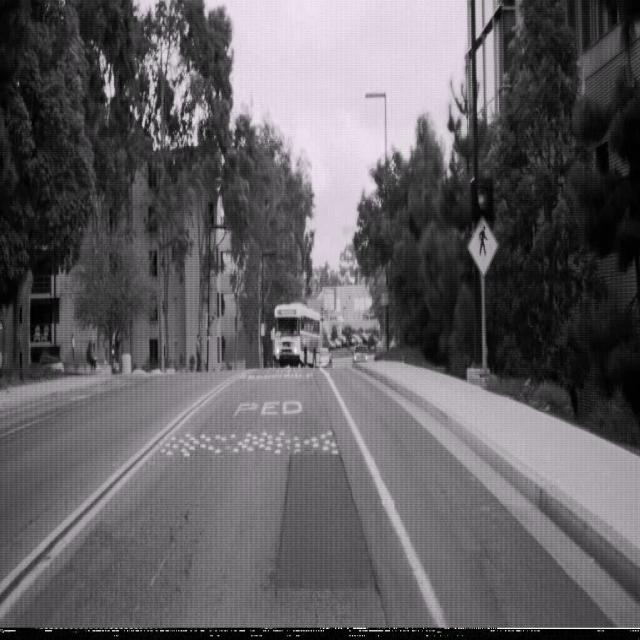pedestrianCrossing: (467, 213, 499, 276)
